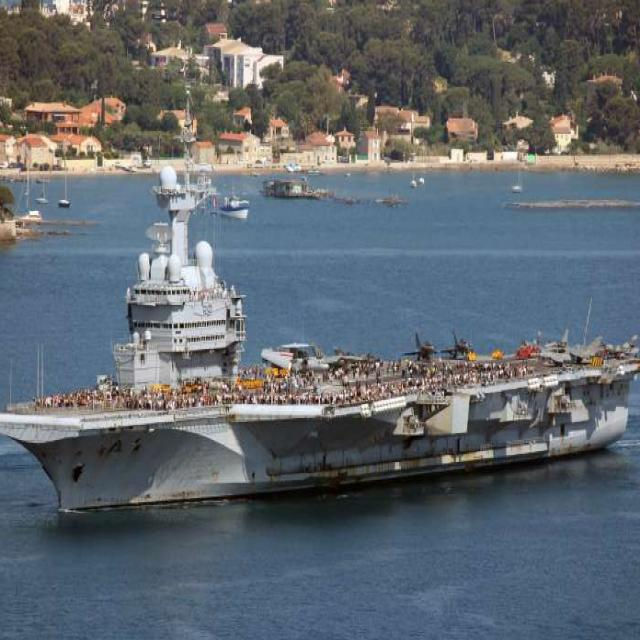Portanaves: (1, 81, 640, 525)
